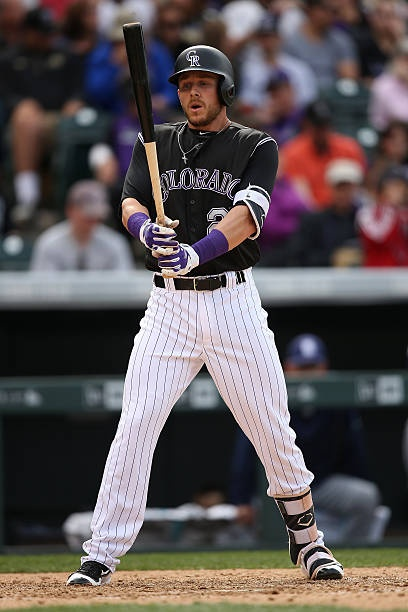bita: (116, 21, 168, 250)
